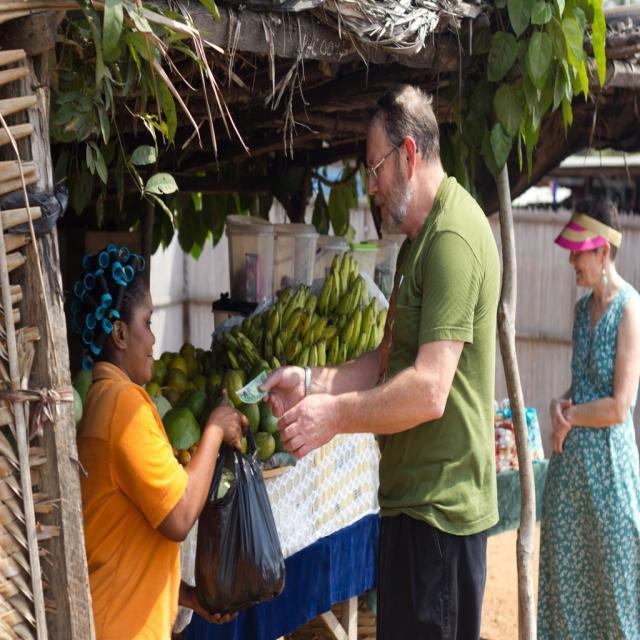Banana: (228, 262, 367, 388)
